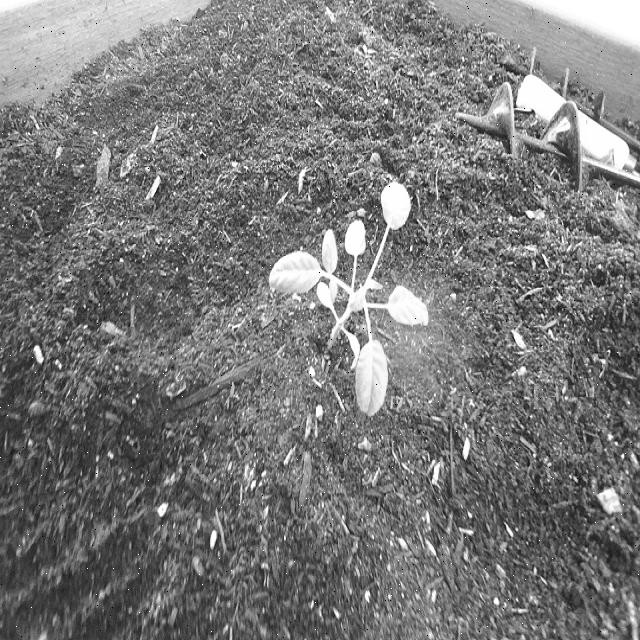Healthy: (268, 177, 432, 421)
